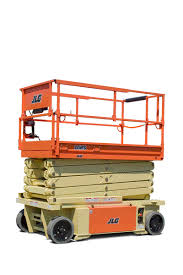Scissor Lift: (15, 79, 166, 245)
